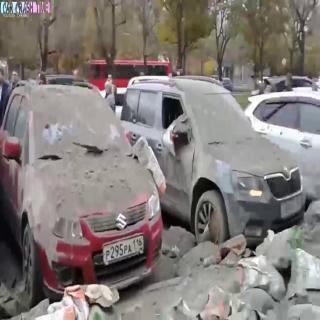multiple_accident: (37, 99, 302, 303)
